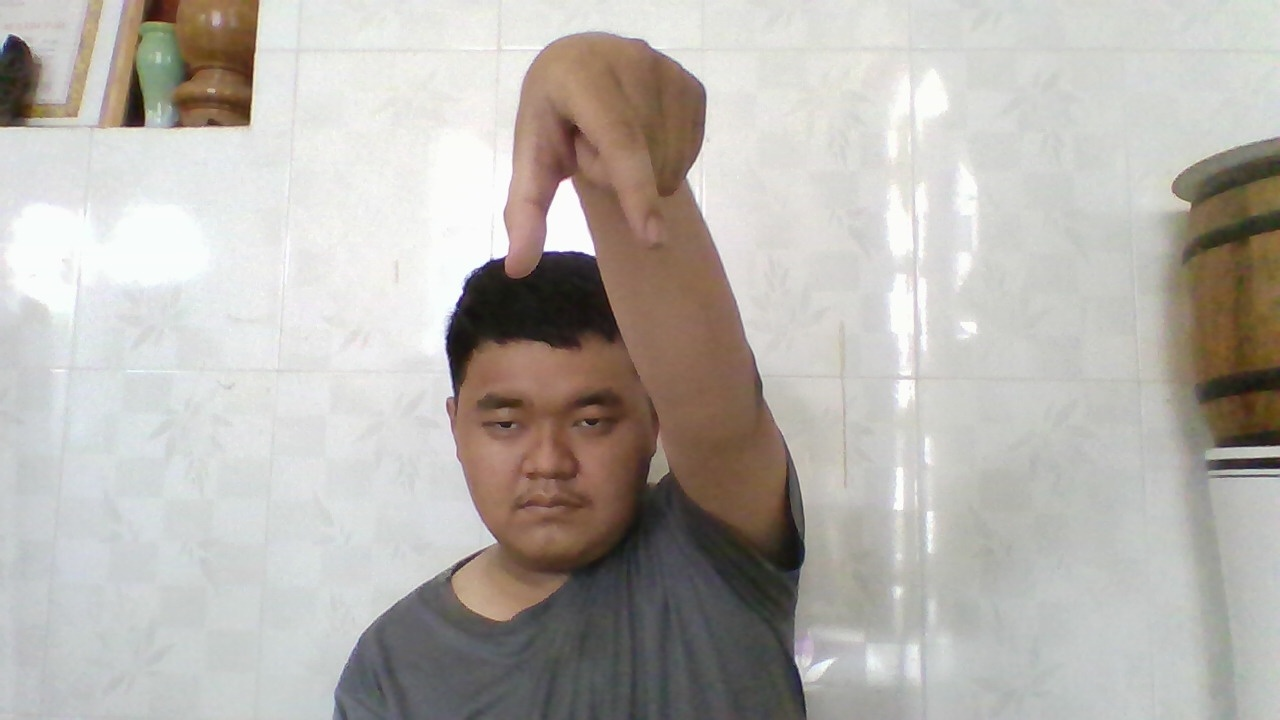Q: (501, 35, 713, 280)
